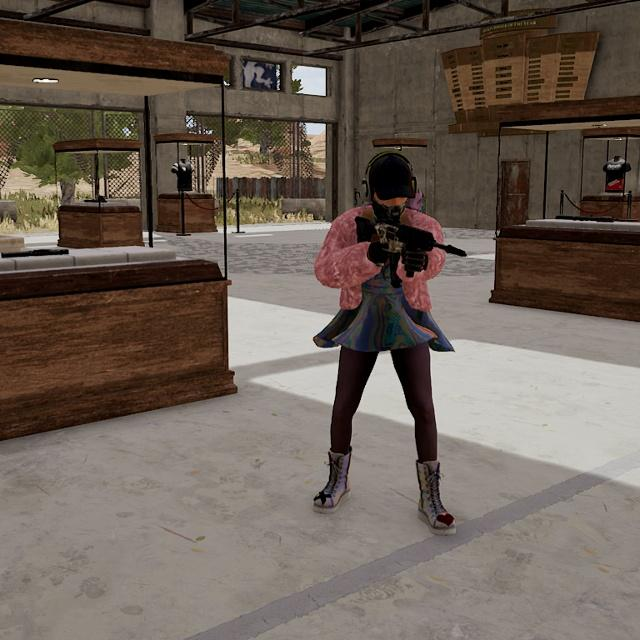head: (358, 148, 421, 229)
people: (306, 145, 472, 534)
